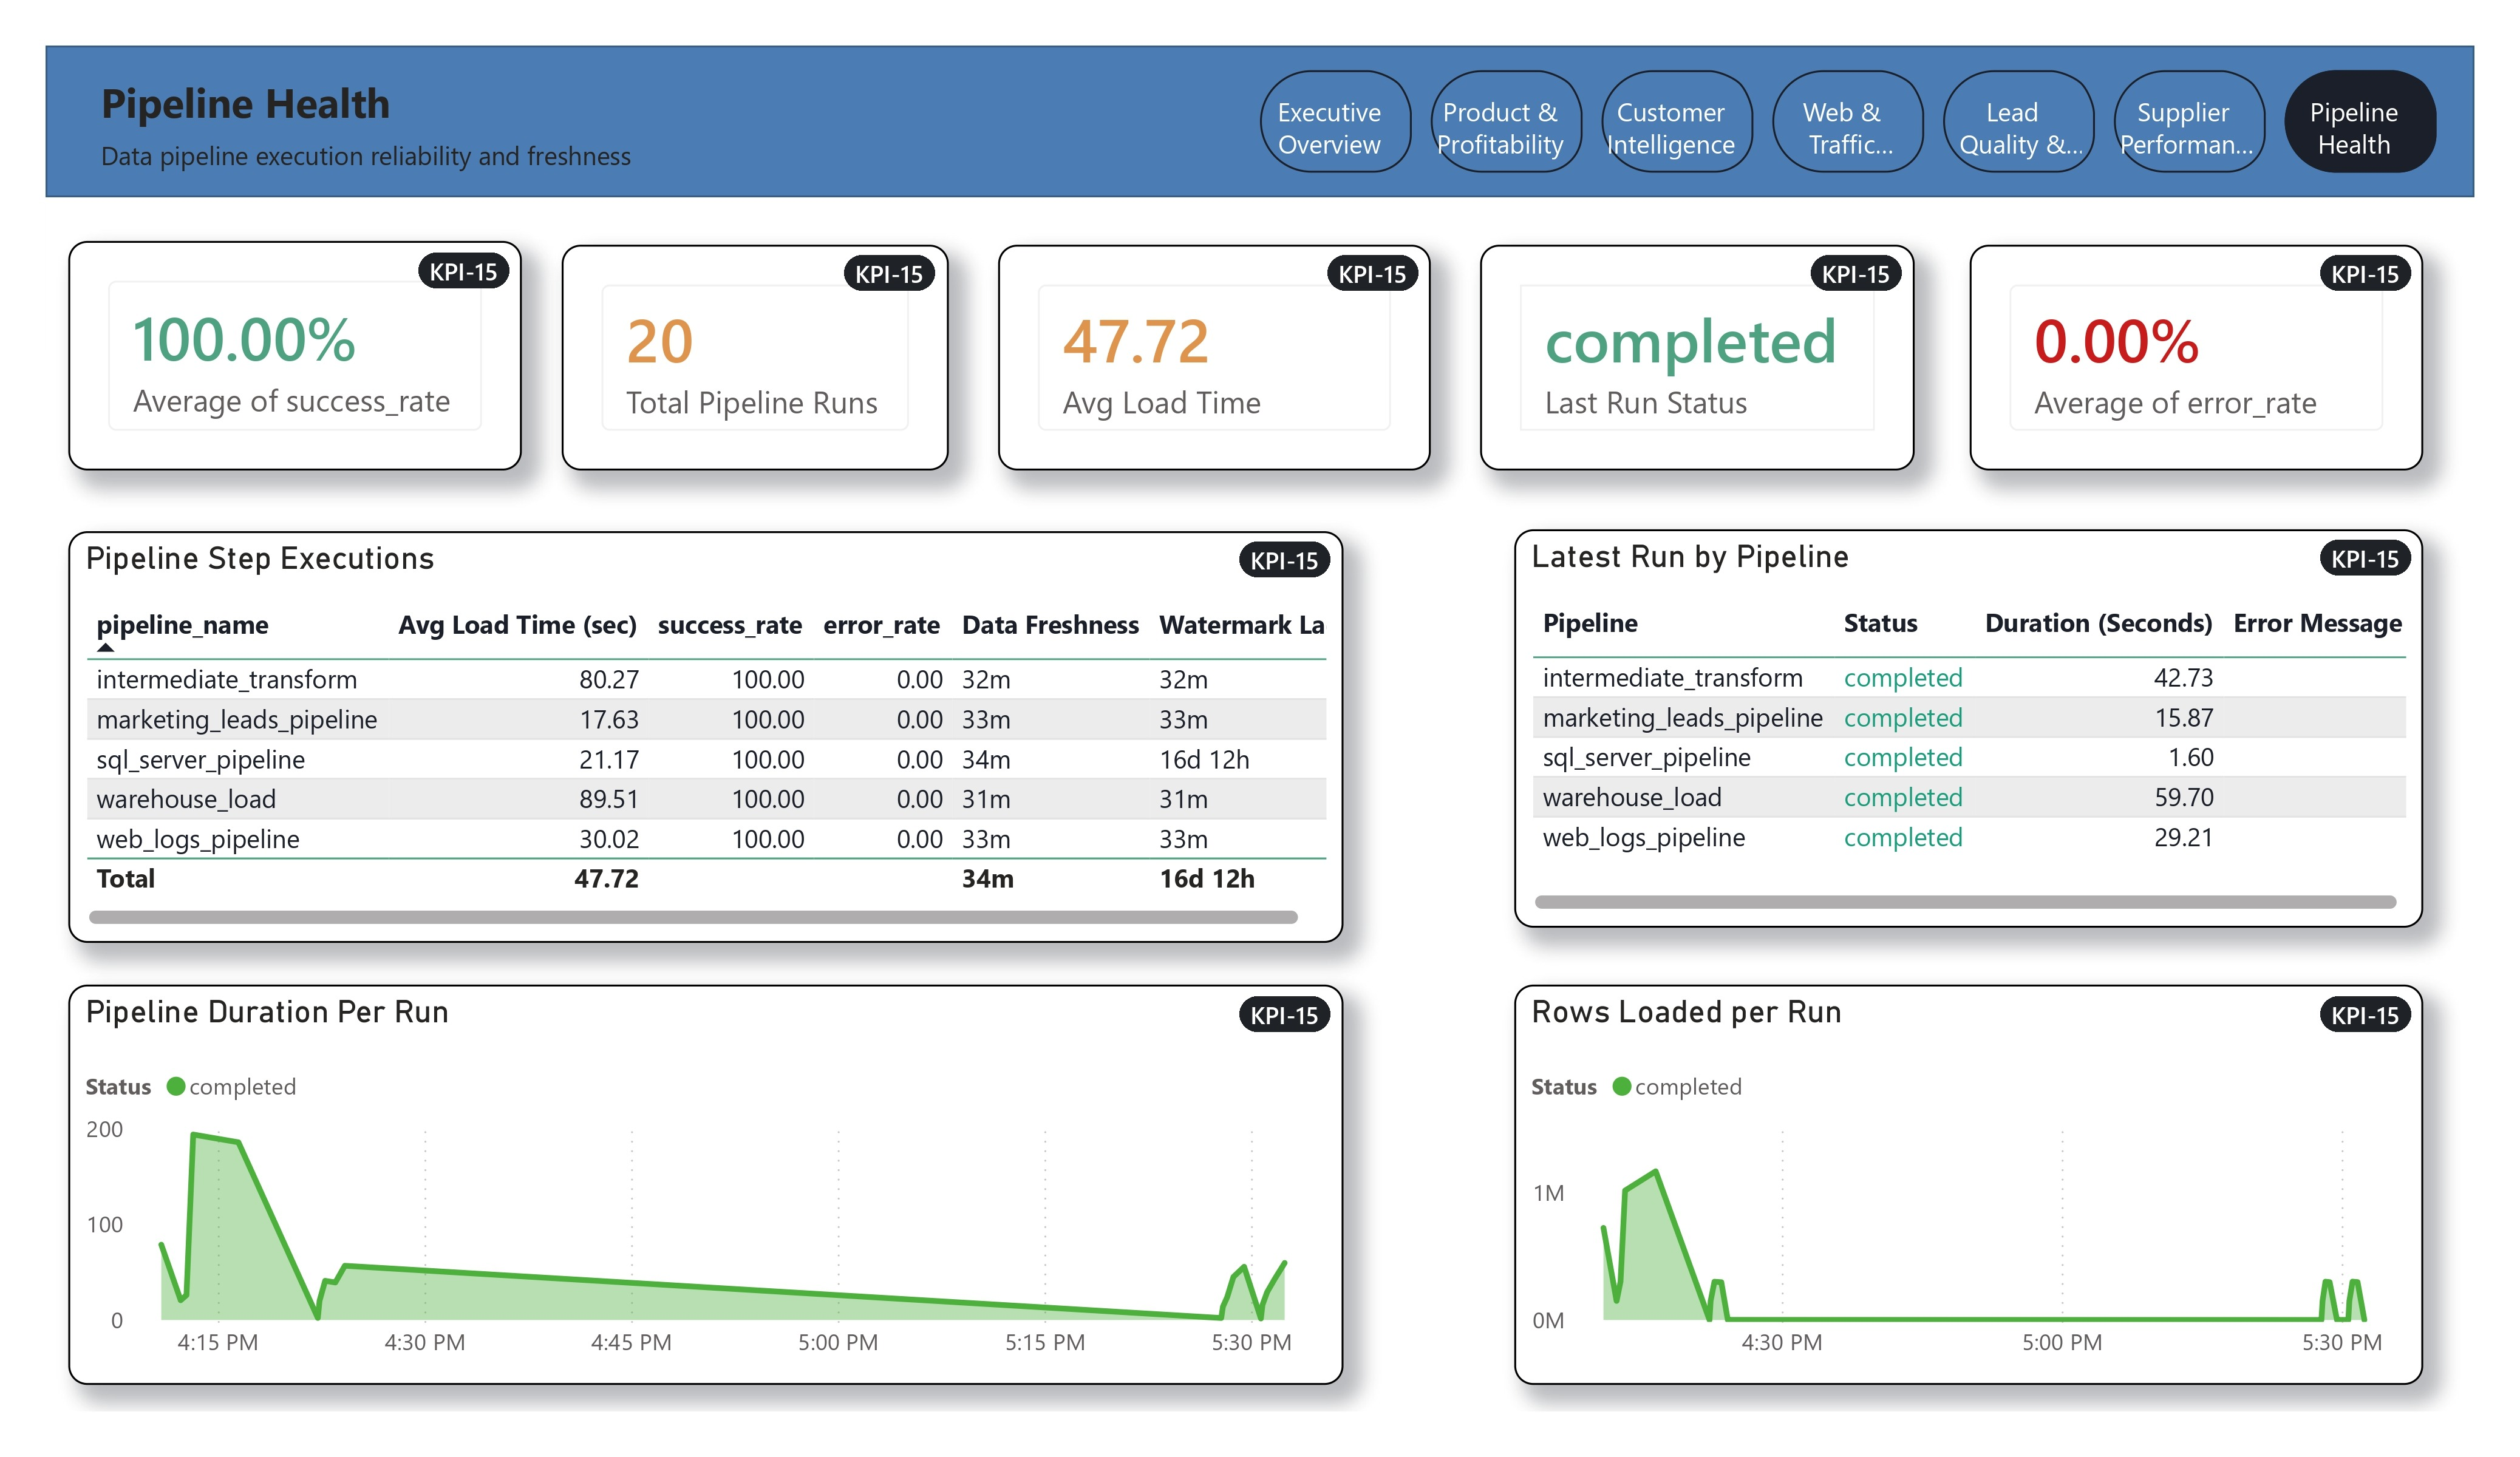

Layout of this report page (visuals, bound fields, positions):
{"tool":"powerbi","page":{"name":"Pipeline Health","canvas":[1280,720],"ordinal":6},"visuals":[{"type":"shape","box":[0,0,1280,80],"z":0},{"type":"tableEx","title":"Pipeline Step Executions","fields":{"Values":["marts vw_pipeline_execution_metrics.pipeline_name","Average(marts vw_pipeline_execution_metrics.avg_load_time)","marts vw_pipeline_execution_metrics.success_rate","marts vw_pipeline_execution_metrics.error_rate","Measure.Data Freshness (Formatted)","Measure.Watermark Lag (Formatted)"]},"box":[11.6,255.8,672.1,217.4],"z":1000},{"type":"cardVisual","fields":{"Data":["Avg(marts vw_pipeline_execution_metrics.success_rate)"]},"box":[11.6,103.5,239.5,120.9],"z":2000},{"type":"cardVisual","fields":{"Data":["Average(marts vw_pipeline_execution_metrics.avg_load_time)"]},"box":[502.3,104.7,227.9,119.8],"z":3000},{"type":"cardVisual","fields":{"Data":["Average(marts vw_pipeline_execution_metrics.error_rate)"]},"box":[1014,104.7,239.5,119.8],"z":4000},{"type":"textbox","box":[24.4,10.5,566.3,52.3],"z":5000},{"type":"textbox","box":[24.4,44.2,550,36],"z":6000},{"type":"pageNavigator","box":[639.5,12.8,620.9,54.7],"z":7000},{"type":"cardVisual","fields":{"Data":["CountNonNull(marts vw_pipeline_run_history.run_id)"]},"box":[272.1,104.7,203.5,119.8],"z":8000},{"type":"cardVisual","fields":{"Data":["Measure.Last Run Status"]},"box":[755.8,104.7,229.1,119.8],"z":9000},{"type":"areaChart","title":"Pipeline Duration Per Run","fields":{"Category":["marts vw_pipeline_run_history.run_timestamp"],"Series":["marts vw_pipeline_run_history.status"],"Y":["Sum(marts vw_pipeline_run_history.duration_seconds)"]},"box":[11.6,495.4,672.1,210.5],"z":10000},{"type":"stackedAreaChart","title":"Rows Loaded per Run","fields":{"Category":["marts vw_pipeline_run_history.run_timestamp"],"Series":["marts vw_pipeline_run_history.status"],"Y":["Sum(marts vw_pipeline_run_history.rows_loaded)"]},"box":[774.4,495.4,479.1,210.5],"z":11000},{"type":"tableEx","title":"Latest Run by Pipeline","fields":{"Values":["marts vw_pipeline_latest_run.pipeline_name","marts vw_pipeline_latest_run.status","Sum(marts vw_pipeline_latest_run.duration_seconds)","marts vw_pipeline_latest_run.error_message"]},"box":[774.4,254.7,479.1,210.5],"z":12000}]}

Visuals, with their boxes in screenshot pixels (x1, y1, x2, y2):
shape: select_region(52, 39, 2450, 189)
"Pipeline Step Executions" tableEx: select_region(74, 518, 1333, 925)
cardVisual - Avg(marts vw_pipeline_execution_metrics.success_rate): select_region(74, 233, 523, 460)
cardVisual - Average(marts vw_pipeline_execution_metrics.avg_load_time): select_region(993, 236, 1420, 460)
cardVisual - Average(marts vw_pipeline_execution_metrics.error_rate): select_region(1952, 236, 2400, 460)
textbox: select_region(98, 59, 1159, 157)
textbox: select_region(98, 122, 1128, 189)
pageNavigator: select_region(1250, 63, 2413, 166)
cardVisual - CountNonNull(marts vw_pipeline_run_history.run_id): select_region(562, 236, 943, 460)
cardVisual - Measure.Last Run Status: select_region(1468, 236, 1897, 460)
"Pipeline Duration Per Run" areaChart: select_region(74, 967, 1333, 1361)
"Rows Loaded per Run" stackedAreaChart: select_region(1503, 967, 2400, 1361)
"Latest Run by Pipeline" tableEx: select_region(1503, 516, 2400, 911)
